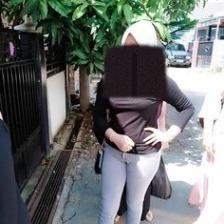Cadar_Niqab: (102, 18, 167, 97)
